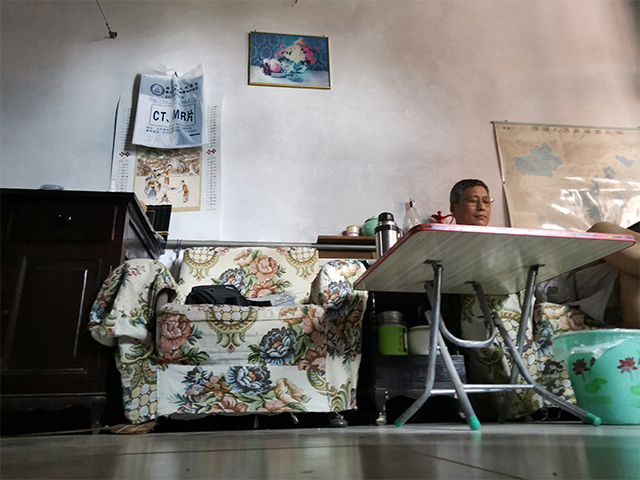cabinet: (1, 187, 166, 436)
sofa: (85, 243, 370, 430)
table: (351, 220, 638, 432)
trashcan: (549, 326, 640, 428)
